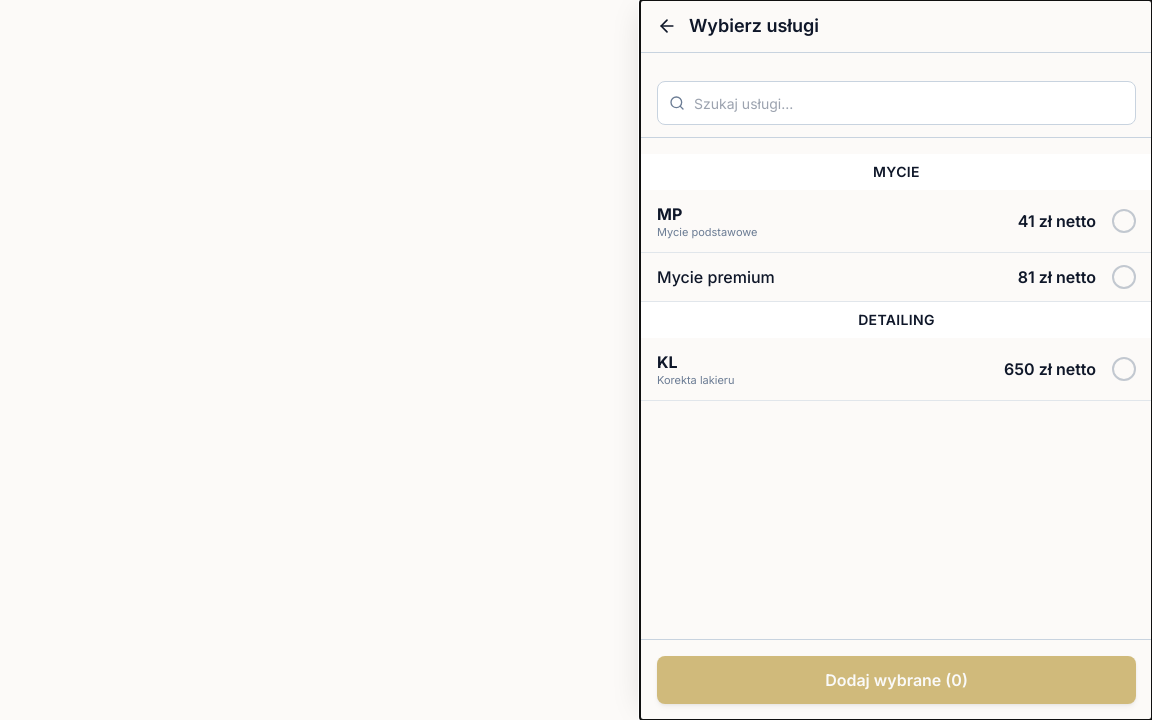
Test case: OfferProductPickerDrawer › shows empty state message when search has no matches
Expected: the number of buttons with test id "product-item" is 3, top-left (641, 190), bottom-right (1151, 253); top-left (641, 253), bottom-right (1151, 302); top-left (641, 338), bottom-right (1151, 401)
Type "xyznotexist" into the search field with placeholder "Szukaj usługi..." at (896,103), box top-left (657, 81), bottom-right (1136, 125)
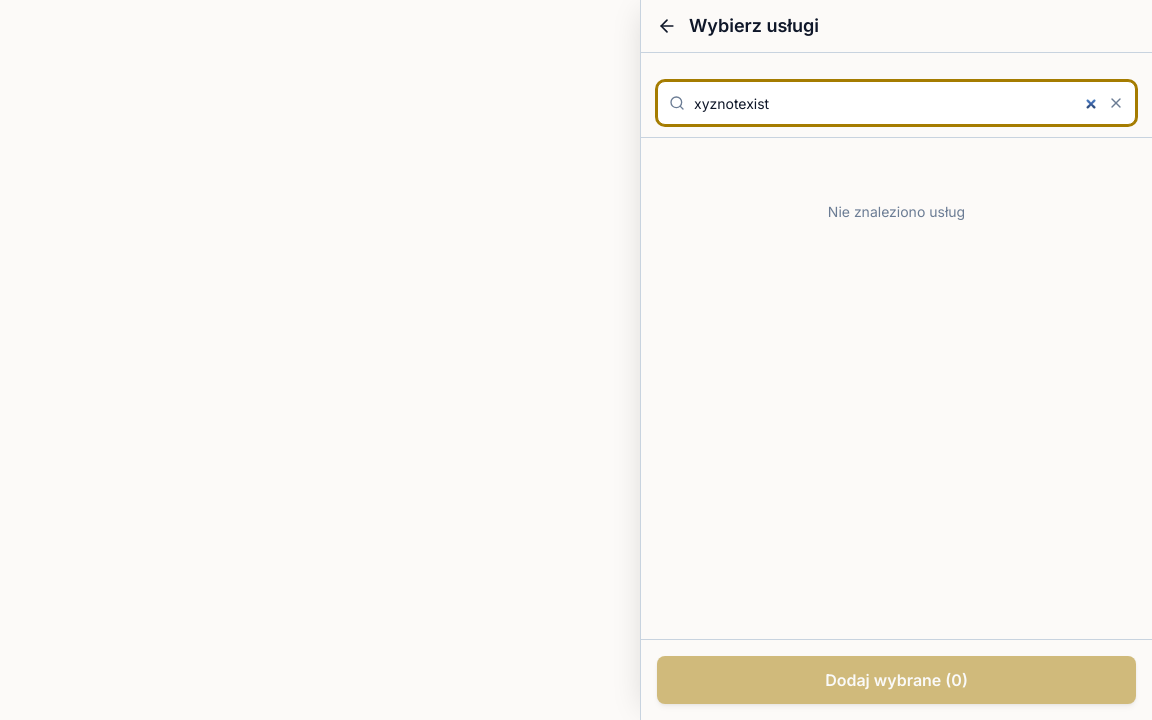
Expected: no buttons with test id "product-item" are shown
Expected: the text "Nie znaleziono usług" is shown, top-left (828, 203), bottom-right (965, 220)
